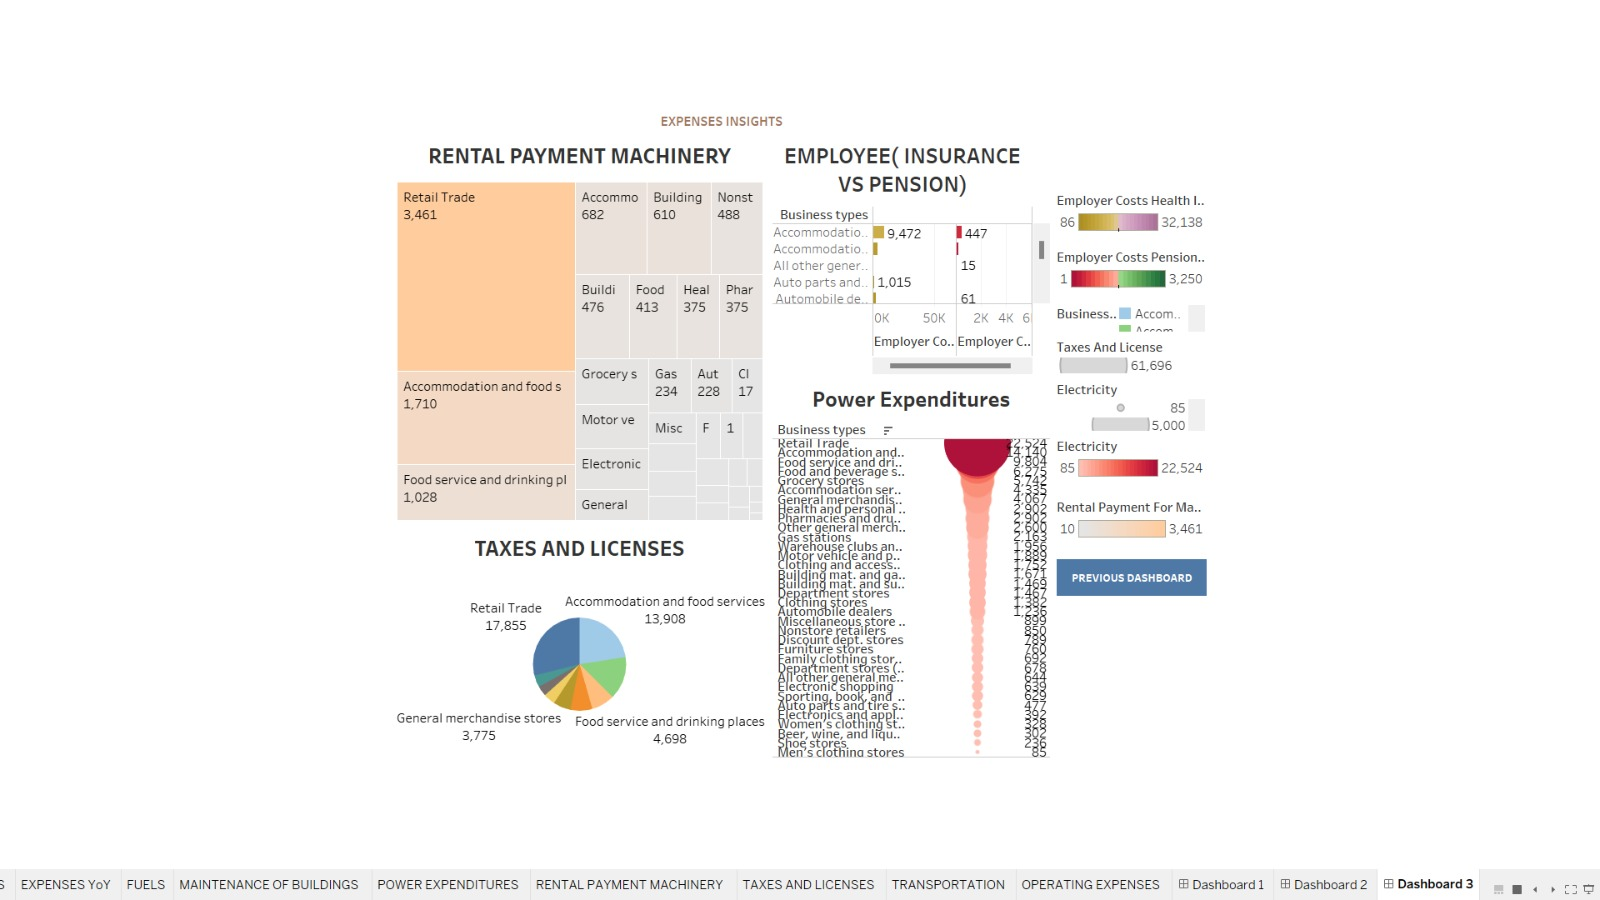

The dashboard page shown, as its layout file describes it:
{"tool":"tableau","page":{"name":"Dashboard 3","canvas":[1000,800],"ordinal":2},"visuals":[{"type":"text","box":[8,8,796,32]},{"type":"blank","box":[804,8,188,97]},{"type":"worksheet","title":"RENTAL PAYMENT MACHINERY","mark":"Automatic","box":[8,40,455,471]},{"type":"worksheet","title":"EMPLOYEE (INSURANCE VS PENSION) ","mark":"Automatic","rows":["Business_types"],"cols":["employer_costs_health_insurance","employer_costs_pension_plans"],"box":[463,40,341,292]},{"type":"legend","title":"EMPLOYEE (INSURANCE VS PENSION) ","param":"[federated.1o96k620cctjzr15oox1n03v0wdw].[sum:employer_costs_health_insurance:qk","box":[804,105,188,68]},{"type":"legend","title":"EMPLOYEE (INSURANCE VS PENSION) ","param":"[federated.1o96k620cctjzr15oox1n03v0wdw].[sum:employer_costs_pension_plans:qk]","box":[804,173,188,68]},{"type":"legend","title":"TAXES AND LICENSES","param":"[federated.1o96k620cctjzr15oox1n03v0wdw].[none:Business_types:nk]","box":[804,241,188,40]},{"type":"legend","title":"TAXES AND LICENSES","param":"[federated.1o96k620cctjzr15oox1n03v0wdw].[sum:taxes_and_license:qk]","box":[804,281,188,51]},{"type":"worksheet","title":"POWER EXPENDITURES","mark":"Shape","rows":["Business_types"],"box":[463,332,341,460]},{"type":"legend","title":"POWER EXPENDITURES","param":"[federated.1o96k620cctjzr15oox1n03v0wdw].[sum:electricity:qk]","box":[804,332,188,68]},{"type":"legend","title":"POWER EXPENDITURES","param":"[federated.1o96k620cctjzr15oox1n03v0wdw].[sum:electricity:qk]","box":[804,400,188,73]},{"type":"legend","title":"RENTAL PAYMENT MACHINERY","param":"[federated.1o96k620cctjzr15oox1n03v0wdw].[sum:rental_payment_for_machinery:qk]","box":[804,473,188,73]},{"type":"worksheet","title":"TAXES AND LICENSES","mark":"Pie","box":[8,511,455,281]},{"type":"dashboard-object","box":[804,546,188,52]}]}

Visuals, with their boxes on the page's 1000x800 design canvas (x1, y1, x2, y2). These are canvas units, not pixel positions in the 1600x900 screenshot, which may show the page scaled, cropped or inside an application window:
text: locate(8, 8, 804, 40)
blank: locate(804, 8, 992, 105)
"RENTAL PAYMENT MACHINERY" worksheet: locate(8, 40, 463, 511)
"EMPLOYEE (INSURANCE VS PENSION) " worksheet: locate(463, 40, 804, 332)
"EMPLOYEE (INSURANCE VS PENSION) " legend: locate(804, 105, 992, 173)
"EMPLOYEE (INSURANCE VS PENSION) " legend: locate(804, 173, 992, 241)
"TAXES AND LICENSES" legend: locate(804, 241, 992, 281)
"TAXES AND LICENSES" legend: locate(804, 281, 992, 332)
"POWER EXPENDITURES" worksheet (Shape marks): locate(463, 332, 804, 792)
"POWER EXPENDITURES" legend: locate(804, 332, 992, 400)
"POWER EXPENDITURES" legend: locate(804, 400, 992, 473)
"RENTAL PAYMENT MACHINERY" legend: locate(804, 473, 992, 546)
"TAXES AND LICENSES" worksheet (Pie marks): locate(8, 511, 463, 792)
dashboard-object: locate(804, 546, 992, 598)
